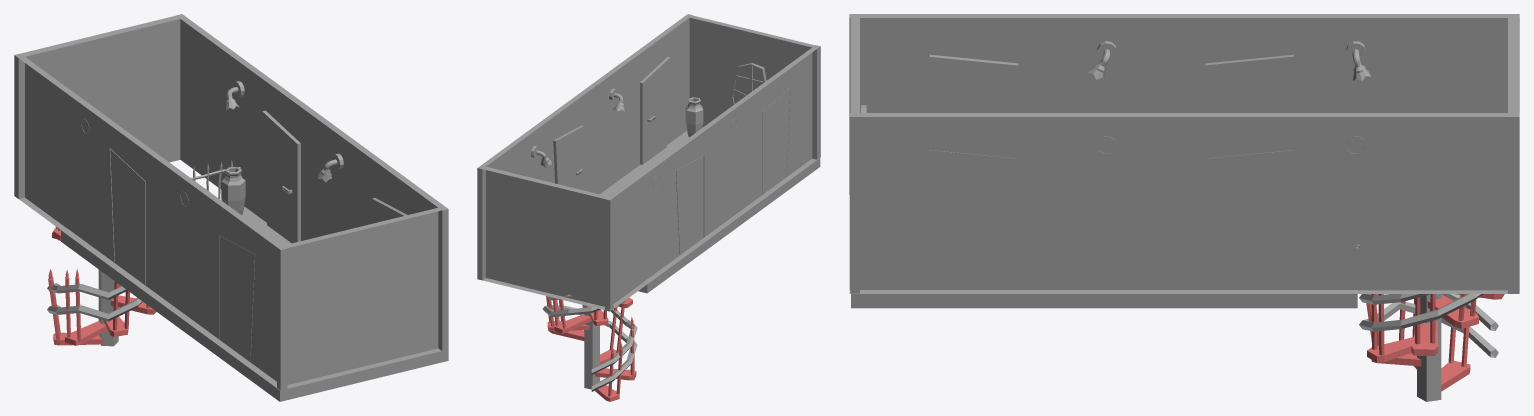
The model's file is couloir.fbx.
3 views of the same model, side by side, from view 1: azimuth 30°, elevation 25°; view 2: azimuth 150°, elevation 25°; view 3: azimuth 270°, elevation 25° (orthographic). The views are drawn at different scales.
Visible parts, largest first — view 1: couloir_mur_R, couloir_mur_L, couloir_mur_fenetre, couloir_mur_escalier, couloir_sol, Escalier2, porte_chambre04, pot04, porte_chambre03; view 2: couloir_mur_R, couloir_mur_escalier, couloir_mur_L, couloir_mur_fenetre, Escalier2, couloir_sol, porte_chambre03, porte_chambre04, fenetre09, pot03; view 3: couloir_mur_L, couloir_mur_R, couloir_sol, Escalier2, porte_chambre02, porte_chambre01, couloir_mur_escalier, couloir_mur_fenetre.
Boxes of the visible parts, x1,y1,x2,y2 form: couloir_mur_R: (19,53,287,390); couloir_mur_L: (176,14,448,351); couloir_mur_fenetre: (277,206,447,390); couloir_mur_escalier: (14,14,186,198); couloir_sol: (61,206,448,401); Escalier2: (47,226,156,346); porte_chambre04: (262,110,300,243); pot04: (221,167,245,215); porte_chambre03: (372,198,407,223); couloir_mur_R: (605,45,820,311); couloir_mur_escalier: (478,165,613,311); couloir_mur_L: (477,14,692,280); couloir_mur_fenetre: (685,14,819,159); Escalier2: (542,294,637,401); couloir_sol: (600,131,820,293); porte_chambre03: (640,57,670,164); porte_chambre04: (553,125,583,190); fenetre09: (731,63,766,105); pot03: (685,97,703,137); couloir_mur_L: (849,113,1519,293); couloir_mur_R: (849,14,1519,194); couloir_sol: (851,290,1357,308); Escalier2: (1359,294,1504,401); porte_chambre02: (929,54,1018,112); porte_chambre01: (1205,54,1293,112); couloir_mur_escalier: (1508,14,1519,293); couloir_mur_fenetre: (850,14,859,293).
Bounding box in the file's own units: 323 × 505 × 885.
